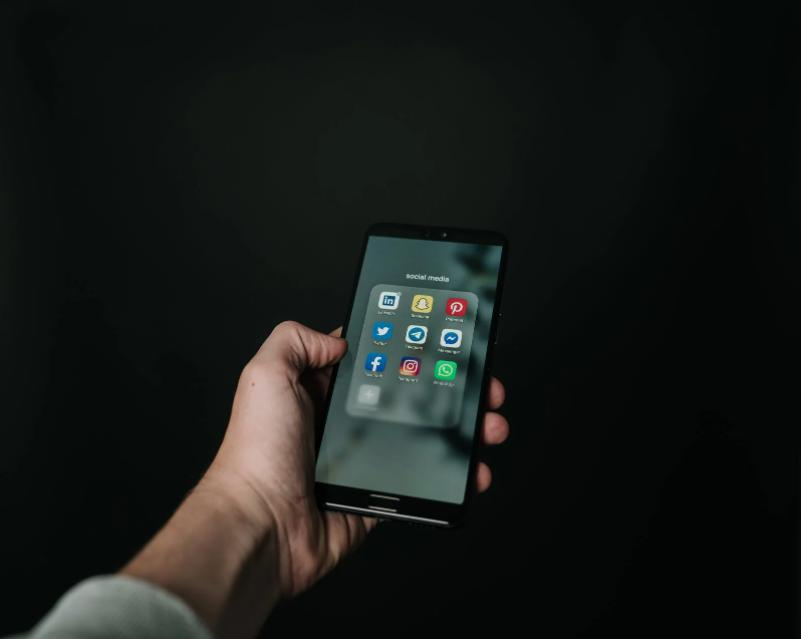mobile: (312, 223, 509, 528)
